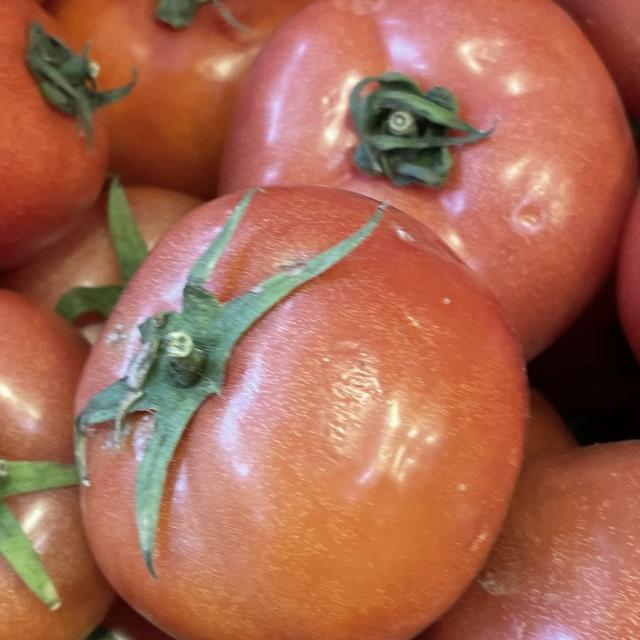tomato: (47, 182, 540, 640), (0, 265, 125, 640), (0, 0, 130, 277)
